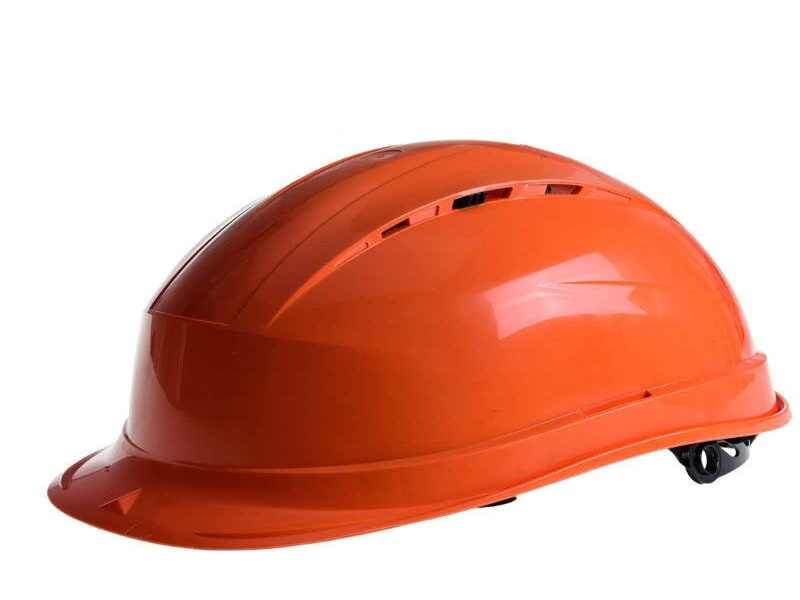helmet: (49, 139, 796, 552)
